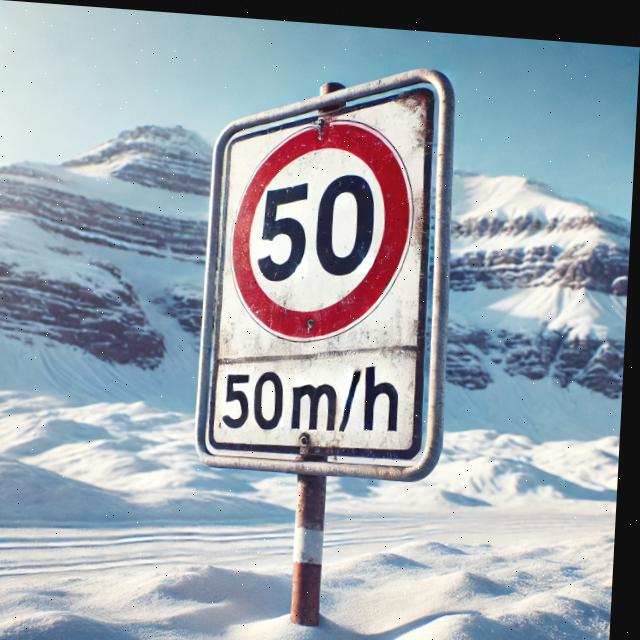Speed limit 50: (229, 107, 420, 345)
